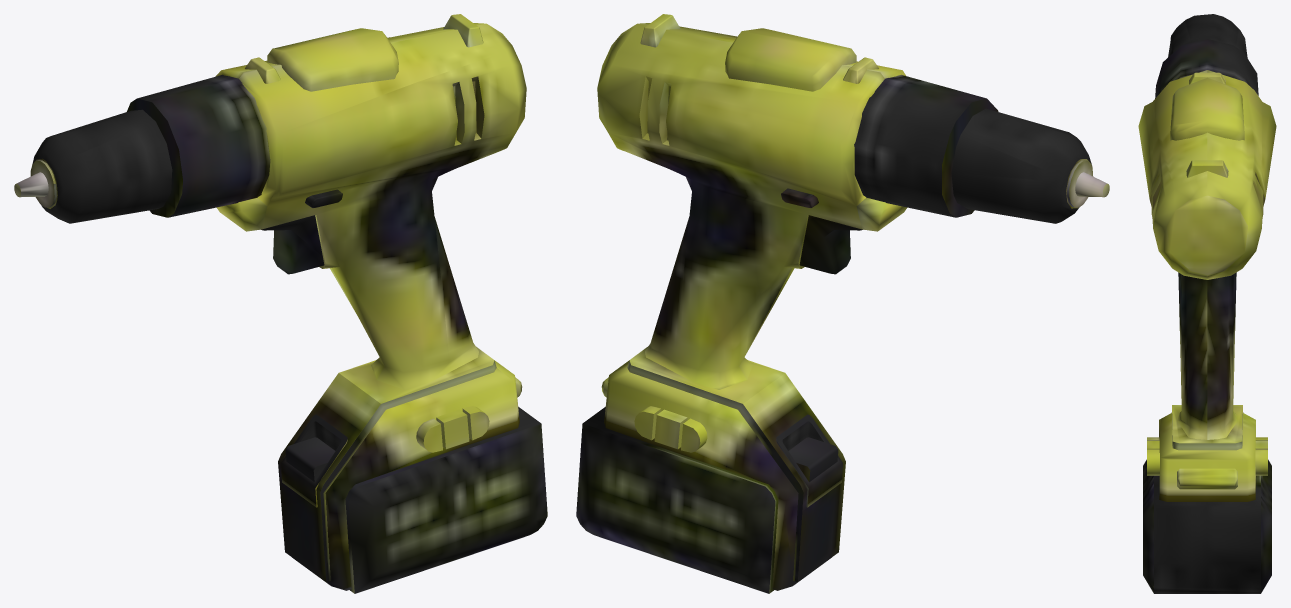
3 views of the same model, side by side, from view 1: azimuth 30°, elevation 25°; view 2: azimuth 150°, elevation 25°; view 3: azimuth 270°, elevation 25° (orthographic). The views are drawn at different scales.
Parts seen in each view (by area): view 1: Drill_01; view 2: Drill_01; view 3: Drill_01.
Boxes of the visible parts, x1,y1,x2,y2 form: Drill_01: [14, 14, 547, 593]; Drill_01: [576, 14, 1109, 593]; Drill_01: [1138, 14, 1276, 593].
Bounding box in the file's own units: 0.1826 × 0.1851 × 0.0524.
Materials: 1 (1 with a texture image).
